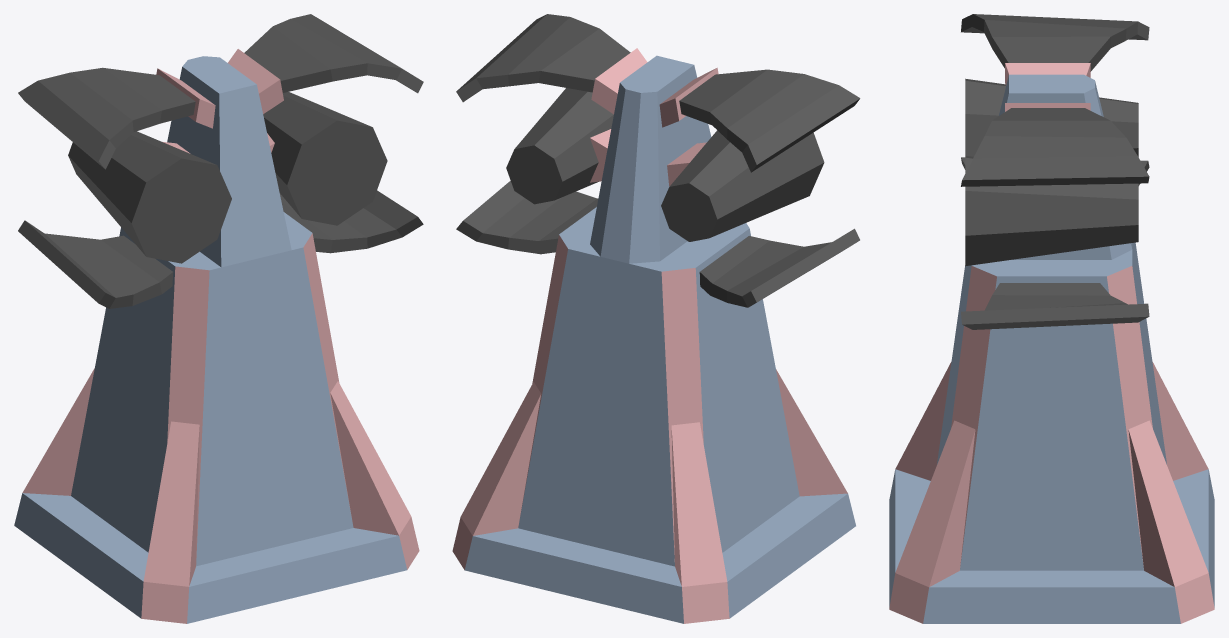
The model's file is TorreLongoAlcanceAVC2.fbx.
3 renders of one model, left to right at view 1: azimuth 30°, elevation 25°; view 2: azimuth 150°, elevation 25°; view 3: azimuth 270°, elevation 25°, orthographic.
Visible parts, largest first — view 1: Torre; view 2: Torre; view 3: Torre.
Part boxes in pixels (box(x1,y1,x2,y2)): Torre: box(14, 14, 423, 623); Torre: box(452, 14, 860, 623); Torre: box(889, 14, 1214, 623).
Size of the model in its own units: 330 by 457 by 283.
